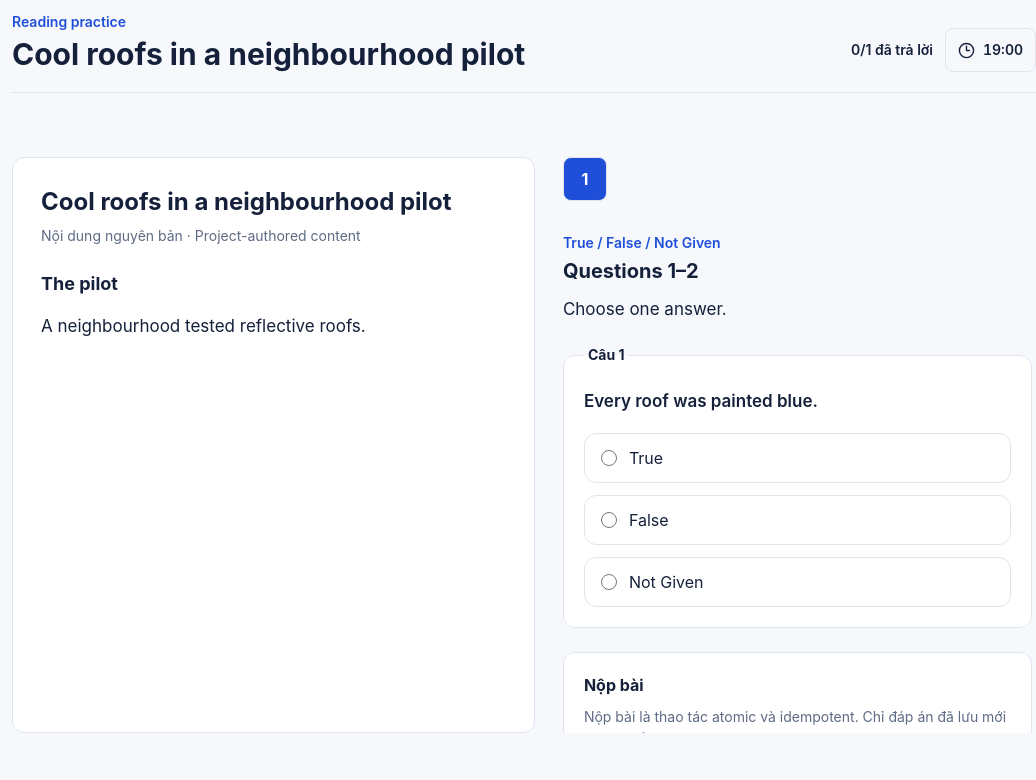
ReadingRunner › autosaves a changed answer with the next client revision
The image size is (1036, 780).
Click the radio button labelled "False": x=609, y=520 [601,512,617,528]
Wait 701 ms
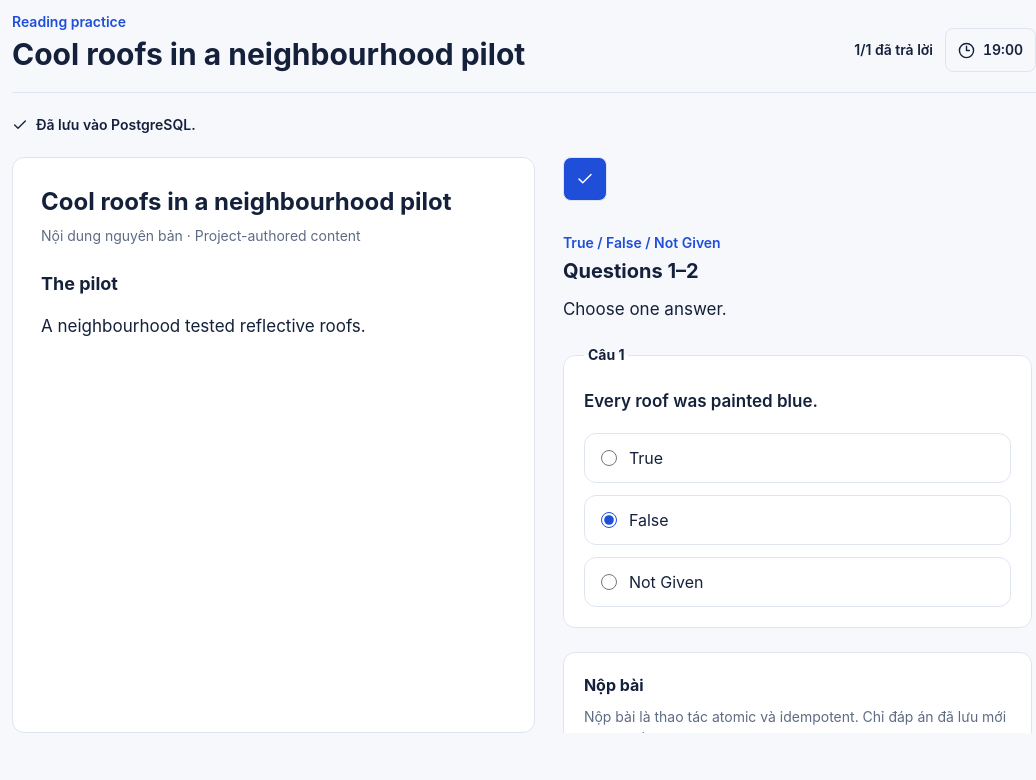
expect the message shows "PostgreSQL": met, box [36,116,196,133]
